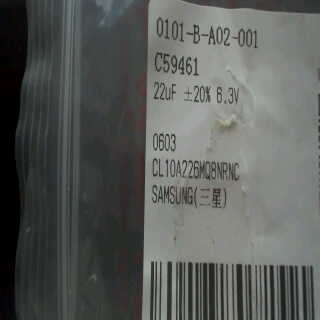22uF: (150, 79, 178, 104)
